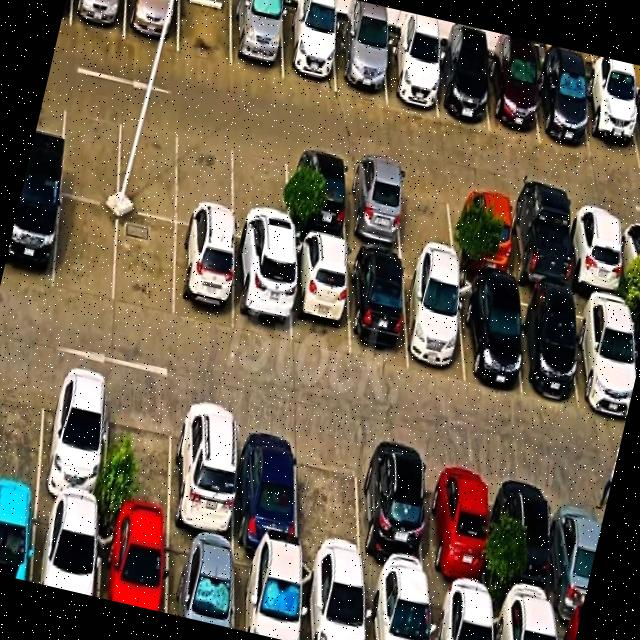empty: (103, 382, 173, 529), (298, 429, 361, 574), (117, 107, 180, 221), (53, 195, 118, 303), (114, 210, 176, 320), (60, 94, 121, 205), (0, 356, 46, 495), (176, 122, 232, 234), (233, 134, 287, 248), (397, 169, 455, 262), (177, 0, 231, 66)
occupied: (37, 365, 108, 513), (358, 442, 427, 588), (170, 397, 236, 544), (425, 455, 487, 603), (234, 412, 296, 556), (499, 470, 555, 615), (511, 287, 577, 403), (457, 276, 521, 395), (571, 295, 633, 416), (403, 261, 464, 382), (348, 248, 407, 365), (553, 482, 603, 620), (291, 236, 348, 355), (165, 532, 233, 628), (32, 500, 99, 597), (99, 516, 166, 613), (1, 181, 60, 290), (173, 224, 233, 331), (507, 194, 569, 293), (233, 548, 299, 640), (233, 239, 290, 344), (287, 147, 346, 243), (453, 182, 511, 278), (345, 158, 402, 253), (581, 78, 640, 169), (567, 206, 623, 299), (536, 64, 590, 156), (301, 562, 364, 640), (281, 6, 335, 92), (487, 54, 539, 143), (433, 46, 488, 130), (383, 34, 437, 117), (231, 0, 282, 80), (335, 23, 386, 102), (364, 579, 429, 640), (0, 493, 37, 581), (429, 590, 490, 640), (124, 0, 179, 51), (492, 604, 554, 640), (70, 0, 125, 38), (619, 216, 640, 301)
